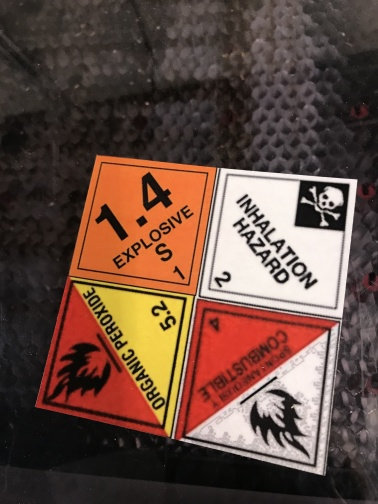Explosive: (69, 154, 217, 297)
InhalationHazard: (200, 168, 357, 320)
OrganicPeroxide: (34, 276, 195, 437)
SpontaneouslyCombustible: (174, 299, 340, 476)
